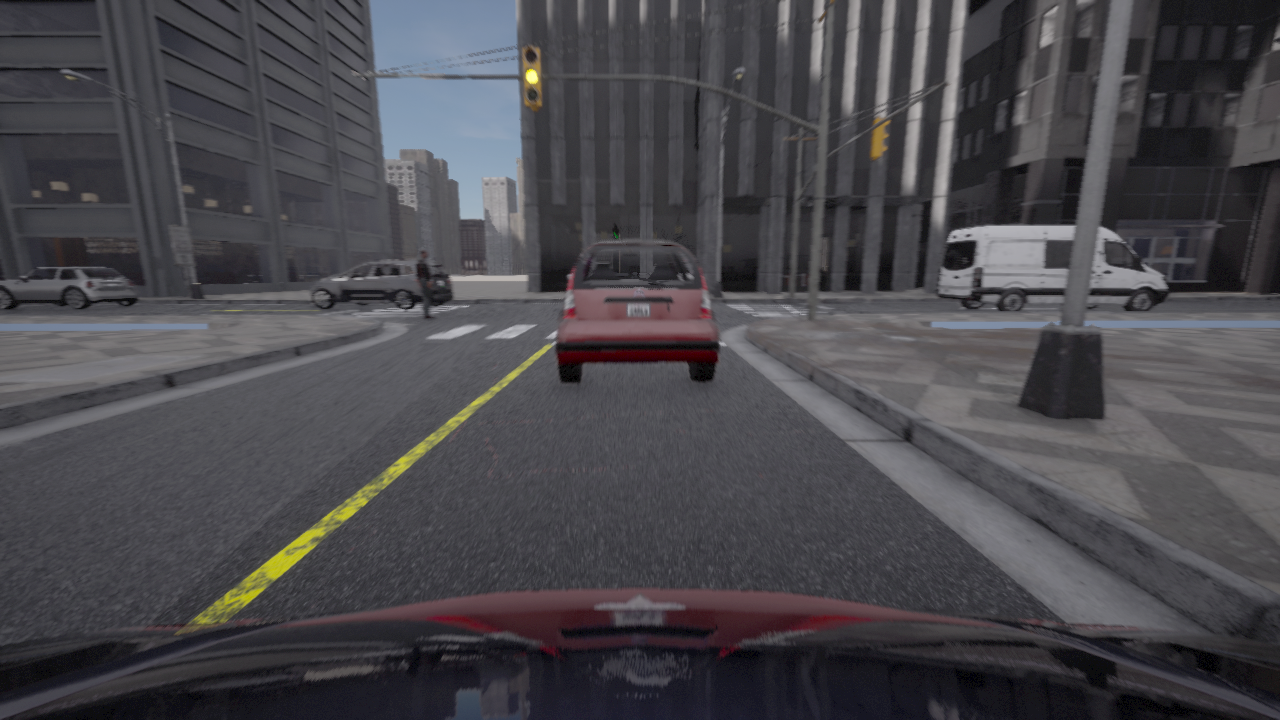cyclist: (0, 588, 1279, 719), (556, 239, 719, 383), (937, 225, 1168, 311), (311, 260, 453, 310), (0, 267, 139, 309)
pedestrian: (416, 249, 435, 318)
